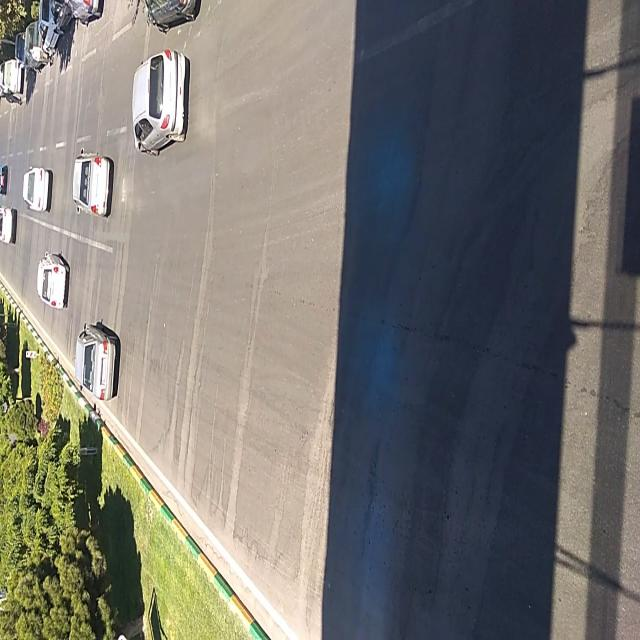car: (129, 47, 188, 156), (76, 322, 116, 402), (72, 149, 112, 218), (38, 255, 69, 312), (23, 166, 51, 212), (1, 208, 17, 246), (6, 62, 22, 94)
